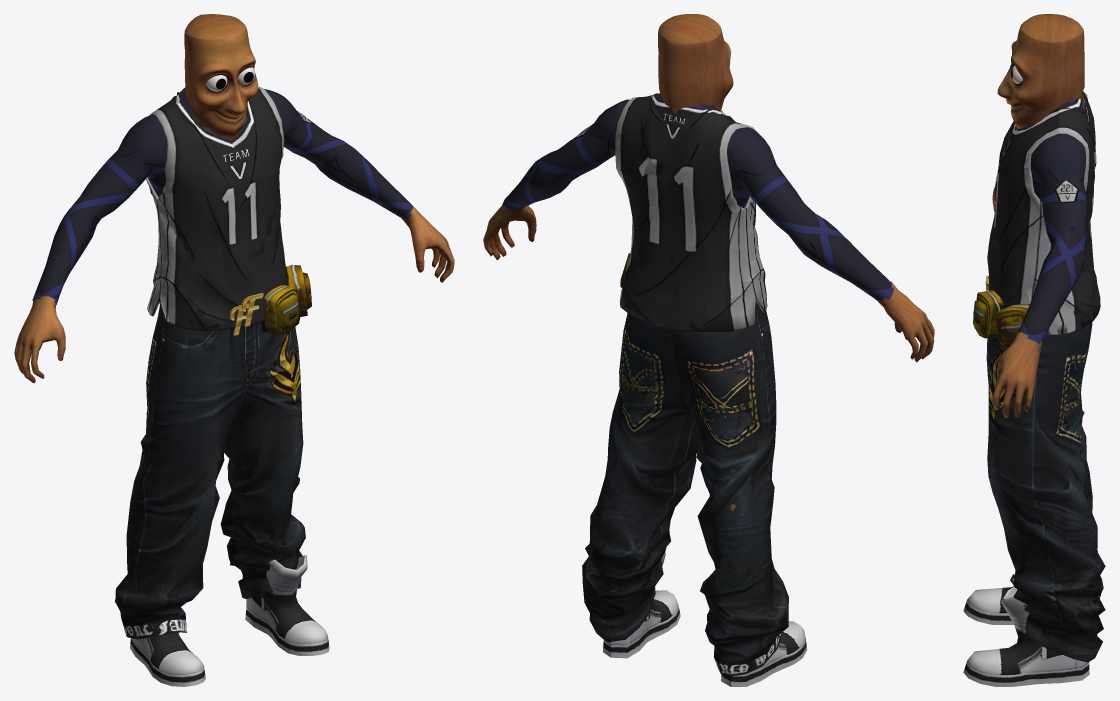
The model's file is tung alpha.glb.
3 renders of one model, left to right at view 1: azimuth 30°, elevation 25°; view 2: azimuth 150°, elevation 25°; view 3: azimuth 270°, elevation 25°, orthographic. The views are drawn at different scales.
Parts seen in each view (by area): view 1: tung alpha; view 2: tung alpha; view 3: tung alpha.
Part boxes in pixels (left/top/right/bottom): tung alpha: left=14, top=14, right=454, bottom=686; tung alpha: left=483, top=14, right=934, bottom=686; tung alpha: left=963, top=14, right=1105, bottom=686.
Size of the model in its own units: 0.6351 by 0.8737 by 0.1799.
Materials: 6 (4 with a texture image).
